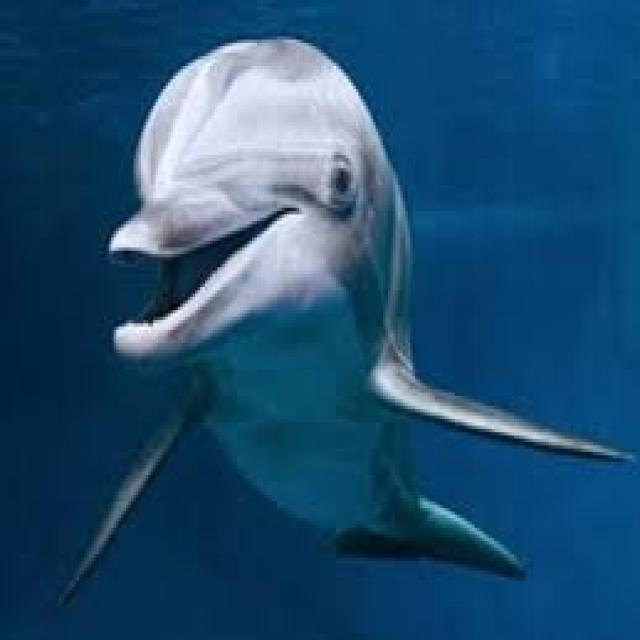dolphin: (59, 17, 625, 600)
